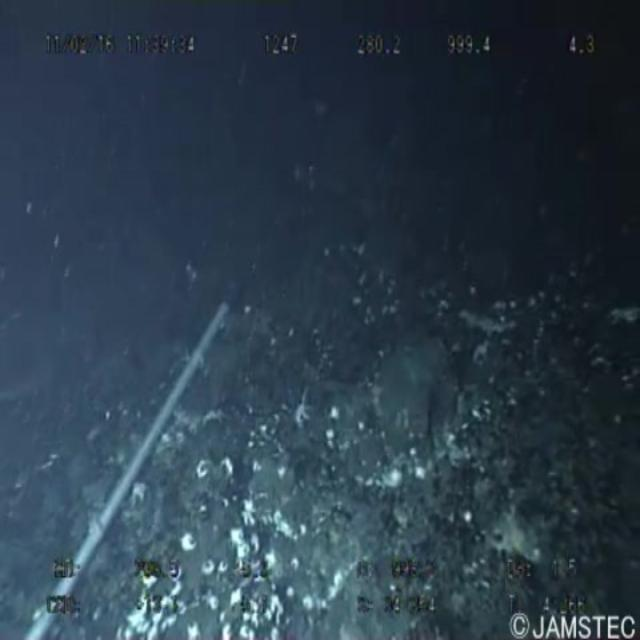Metal: (23, 298, 251, 640)
